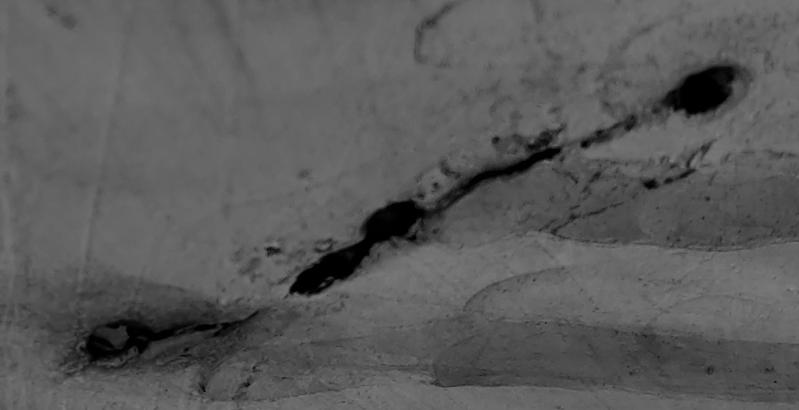crack: (1, 1, 799, 410)
